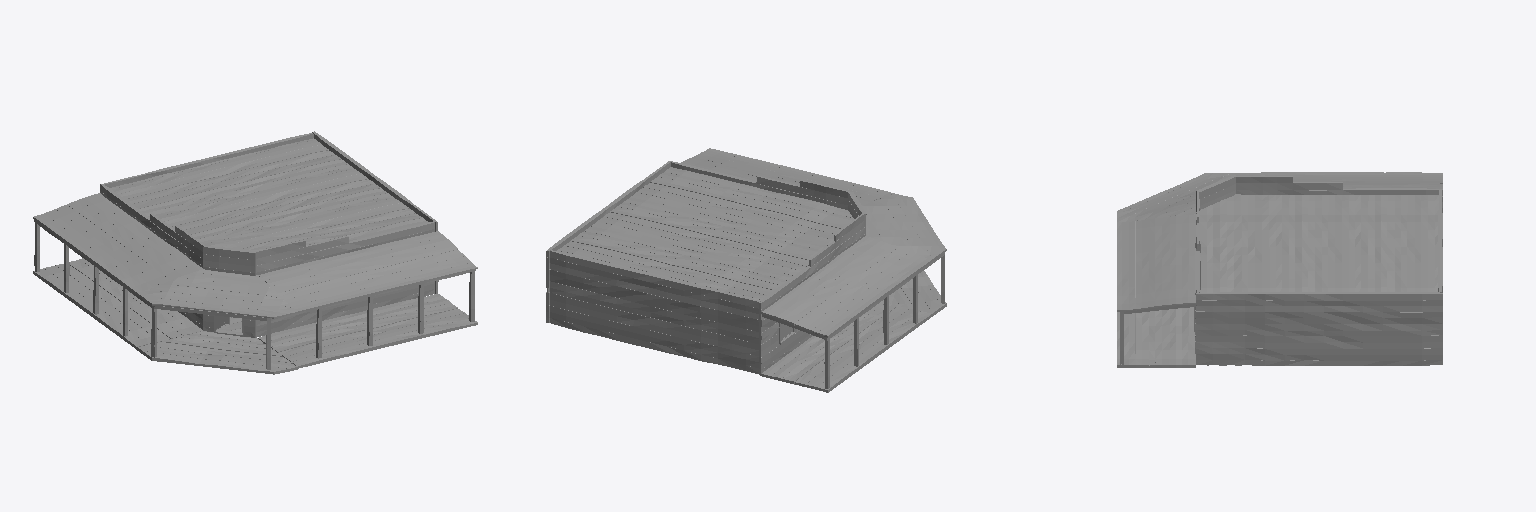
File: Saloon.obj
3 renders of one model, left to right at view 1: azimuth 30°, elevation 25°; view 2: azimuth 150°, elevation 25°; view 3: azimuth 270°, elevation 25°, orthographic.
Visible parts, largest first — view 1: WildWest_Saloon_Porch, WildWest_Saloon_Ceiling, WildWest_Saloon_Building; view 2: WildWest_Saloon_Porch, WildWest_Saloon_Ceiling, WildWest_Saloon_Building; view 3: WildWest_Saloon_Ceiling, WildWest_Saloon_Building, WildWest_Saloon_Porch.
Part boxes in pixels (x1,y1,x2,y2): WildWest_Saloon_Porch: (33,193,477,374); WildWest_Saloon_Ceiling: (110,138,427,337); WildWest_Saloon_Building: (100,131,438,337); WildWest_Saloon_Porch: (681,148,946,392); WildWest_Saloon_Ceiling: (551,167,853,374); WildWest_Saloon_Building: (546,161,865,373); WildWest_Saloon_Ceiling: (1200,194,1438,365); WildWest_Saloon_Building: (1194,175,1442,365); WildWest_Saloon_Porch: (1117,172,1442,367).
Bounding box in the file's own units: 14.17 × 4.22 × 14.16.